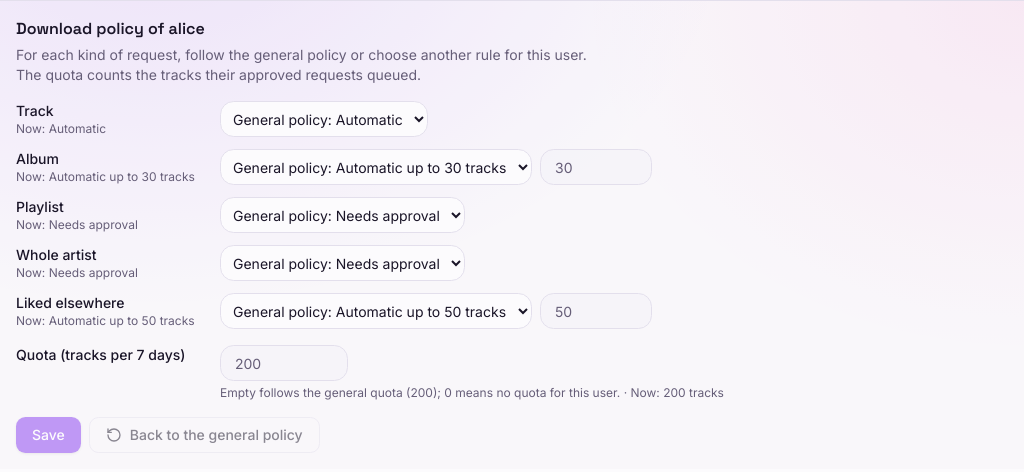
Test case: a user's download policy › nothing to save until something changes
Expected: the button "Save" is disabled, [16,417,81,453]
Expected: the button "Back to the general policy" is disabled, [89,417,320,453]
Select "Automatic" in the dropdown named "Rule for Playlist requests". click: (342, 215)
box: [220,197,465,233]
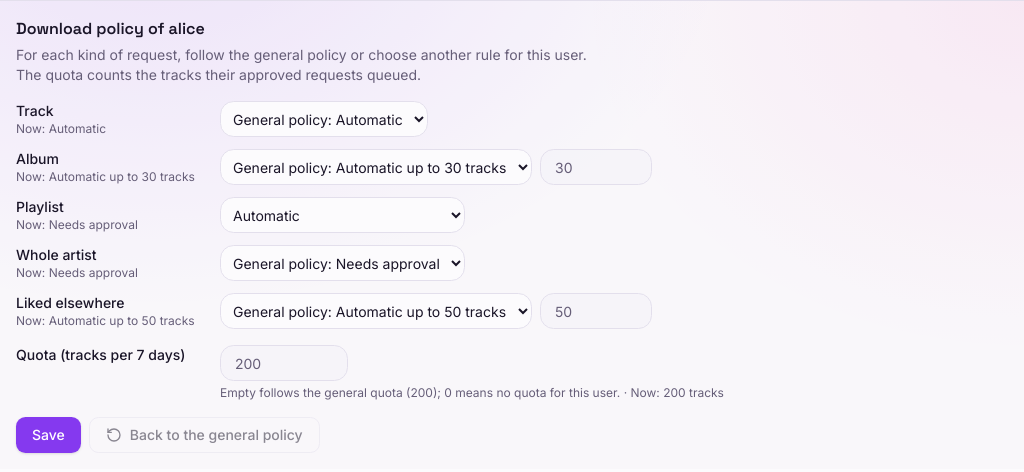
Expected: the button "Save" is enabled, [16,417,81,453]
